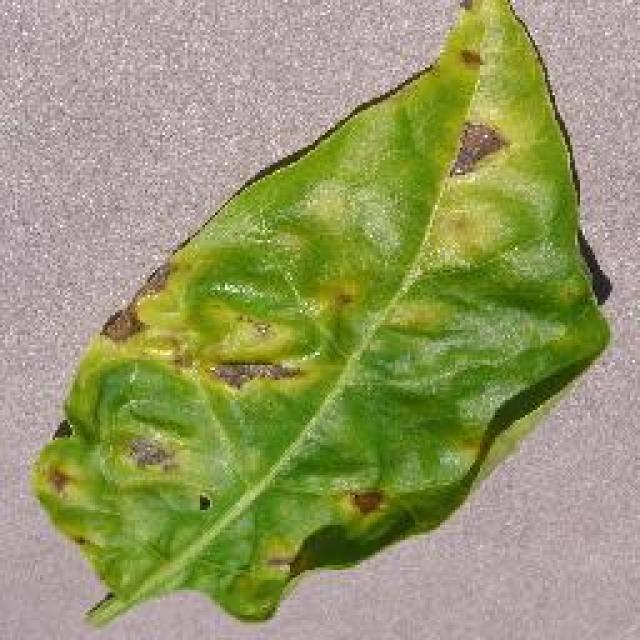Chilli_Bacterial_Spot: (25, 0, 613, 628), (428, 205, 498, 270), (445, 118, 507, 180), (205, 358, 305, 392), (307, 272, 365, 318), (223, 310, 285, 350), (122, 433, 180, 475), (95, 303, 143, 345), (340, 485, 388, 523), (43, 462, 75, 502), (453, 42, 485, 72), (453, 0, 515, 15), (190, 487, 215, 515), (450, 0, 482, 15)
